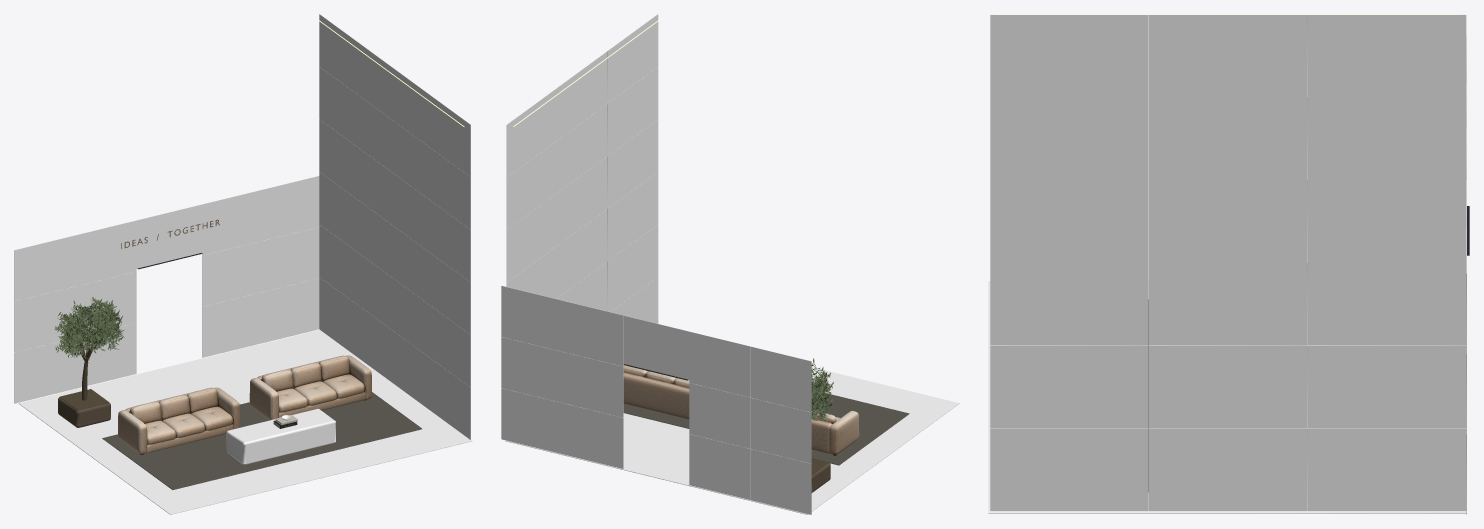
File: lounge.2b3a694526bb.glb
3 views of the same model, side by side, from view 1: azimuth 30°, elevation 25°; view 2: azimuth 150°, elevation 25°; view 3: azimuth 270°, elevation 25° (orthographic). The views are drawn at different scales.
Parts seen in each view (by area): view 1: WEB_V3_LOUNGE_CLAD_LOUNGE_PORTAL_HEAD_0_0, WEB_V3_LOUNGE_FLOOR_FINISH, WEB_V04_LOUNGE_SOFA_A, WEB_V3_LOUNGE_RUG, WEB_LOUNGE_TABLE, WEB_V5_LOUNGE_OLIVE_LEAVES, WEB_LOUNGE_OLIVE_planter, WEB_V5_LOUNGE_OLIVE_BRANCHES, WEB_V3_LOUNGE_OLIVE_soil; view 2: WEB_V3_LOUNGE_CLAD_LOUNGE_PORTAL_HEAD_0_0, WEB_V3_LOUNGE_FLOOR_FINISH, WEB_V04_LOUNGE_SOFA_A, WEB_V3_LOUNGE_RUG, WEB_V5_LOUNGE_OLIVE_LEAVES; view 3: WEB_V3_LOUNGE_CLAD_LOUNGE_PORTAL_HEAD_0_0, WEB_V3_LOUNGE_FLOOR_FINISH.
Part boxes in pixels (box(x1,y1,x2,y2)): WEB_V3_LOUNGE_CLAD_LOUNGE_PORTAL_HEAD_0_0: box(14, 14, 470, 439); WEB_V3_LOUNGE_FLOOR_FINISH: box(18, 330, 472, 514); WEB_V04_LOUNGE_SOFA_A: box(118, 355, 371, 454); WEB_V3_LOUNGE_RUG: box(102, 392, 421, 489); WEB_LOUNGE_TABLE: box(226, 408, 335, 464); WEB_V5_LOUNGE_OLIVE_LEAVES: box(54, 297, 124, 359); WEB_LOUNGE_OLIVE_planter: box(58, 397, 110, 427); WEB_V5_LOUNGE_OLIVE_BRANCHES: box(60, 302, 120, 400); WEB_V3_LOUNGE_OLIVE_soil: box(60, 389, 109, 410); WEB_V3_LOUNGE_CLAD_LOUNGE_PORTAL_HEAD_0_0: box(501, 14, 811, 514); WEB_V3_LOUNGE_FLOOR_FINISH: box(505, 367, 959, 514); WEB_V04_LOUNGE_SOFA_A: box(623, 365, 859, 455); WEB_V3_LOUNGE_RUG: box(623, 371, 909, 465); WEB_V5_LOUNGE_OLIVE_LEAVES: box(811, 358, 835, 421); WEB_V3_LOUNGE_CLAD_LOUNGE_PORTAL_HEAD_0_0: box(990, 14, 1466, 514); WEB_V3_LOUNGE_FLOOR_FINISH: box(988, 281, 1466, 513).
Size of the model in its own units: 8 by 7.8 by 6.83.
15 materials, 1 textured.
